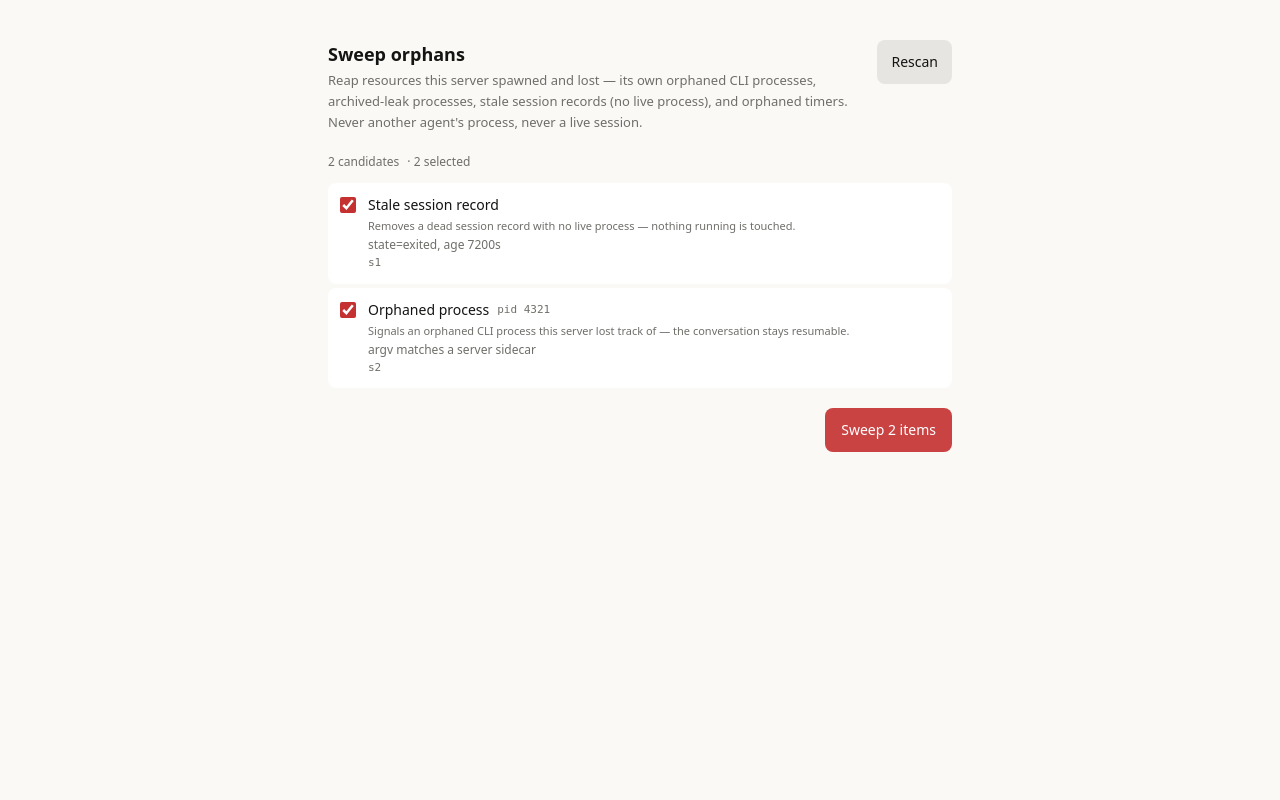
SweepPage per-candidate selection › deselecting a candidate narrows the confirm count (page button + dialog follow the SELECTED subset)
Expected: the text "2 candidates" is shown, [328, 153, 399, 171]
Expected: the button "Sweep 2 items" is shown, [825, 408, 952, 452]
Click the checkbox named "Orphaned process (pid 4321)" at (348, 310), box [340, 302, 356, 318]
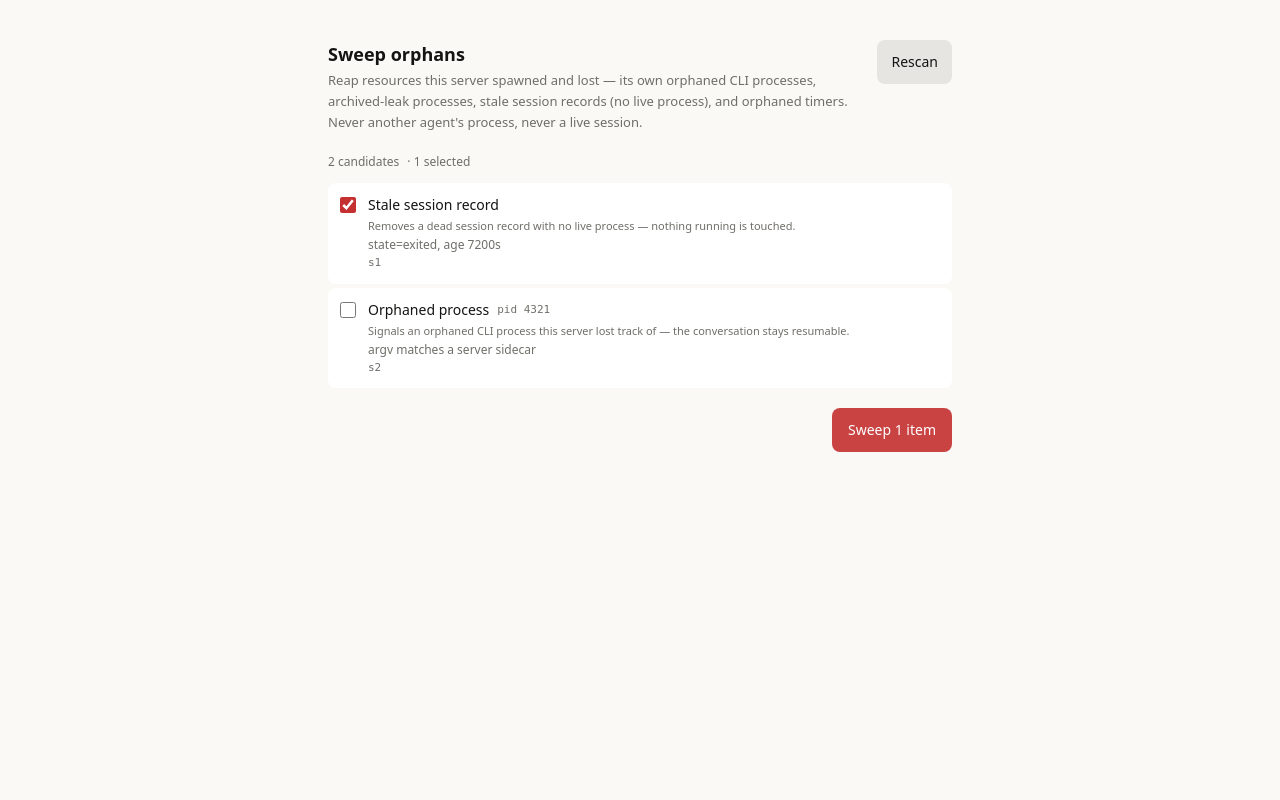
Expected: the checkbox named "Orphaned process (pid 4321)" is not checked, [340, 302, 356, 318]
Expected: the text "· 1 selected" is shown, [407, 153, 470, 171]
Click the button "Sweep 1 item" at (892, 430), box [832, 408, 952, 452]
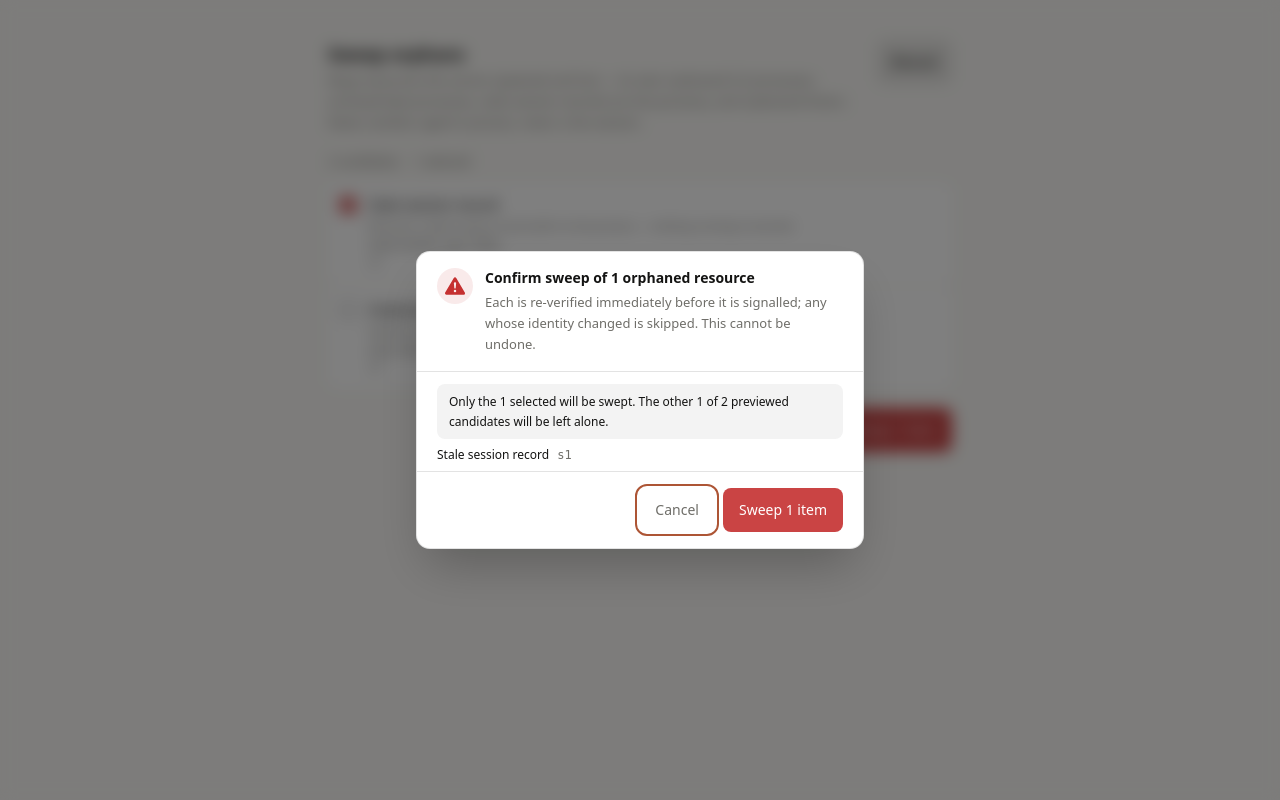
Expected: the button "Sweep 1 item" is shown, [723, 488, 843, 532]
Expected: the text "Only the 1 selected will be swept" is shown, [437, 384, 843, 439]
Expected: the text "other 1 of 2 previewed candidates will be left alone" is shown, [437, 384, 843, 439]
